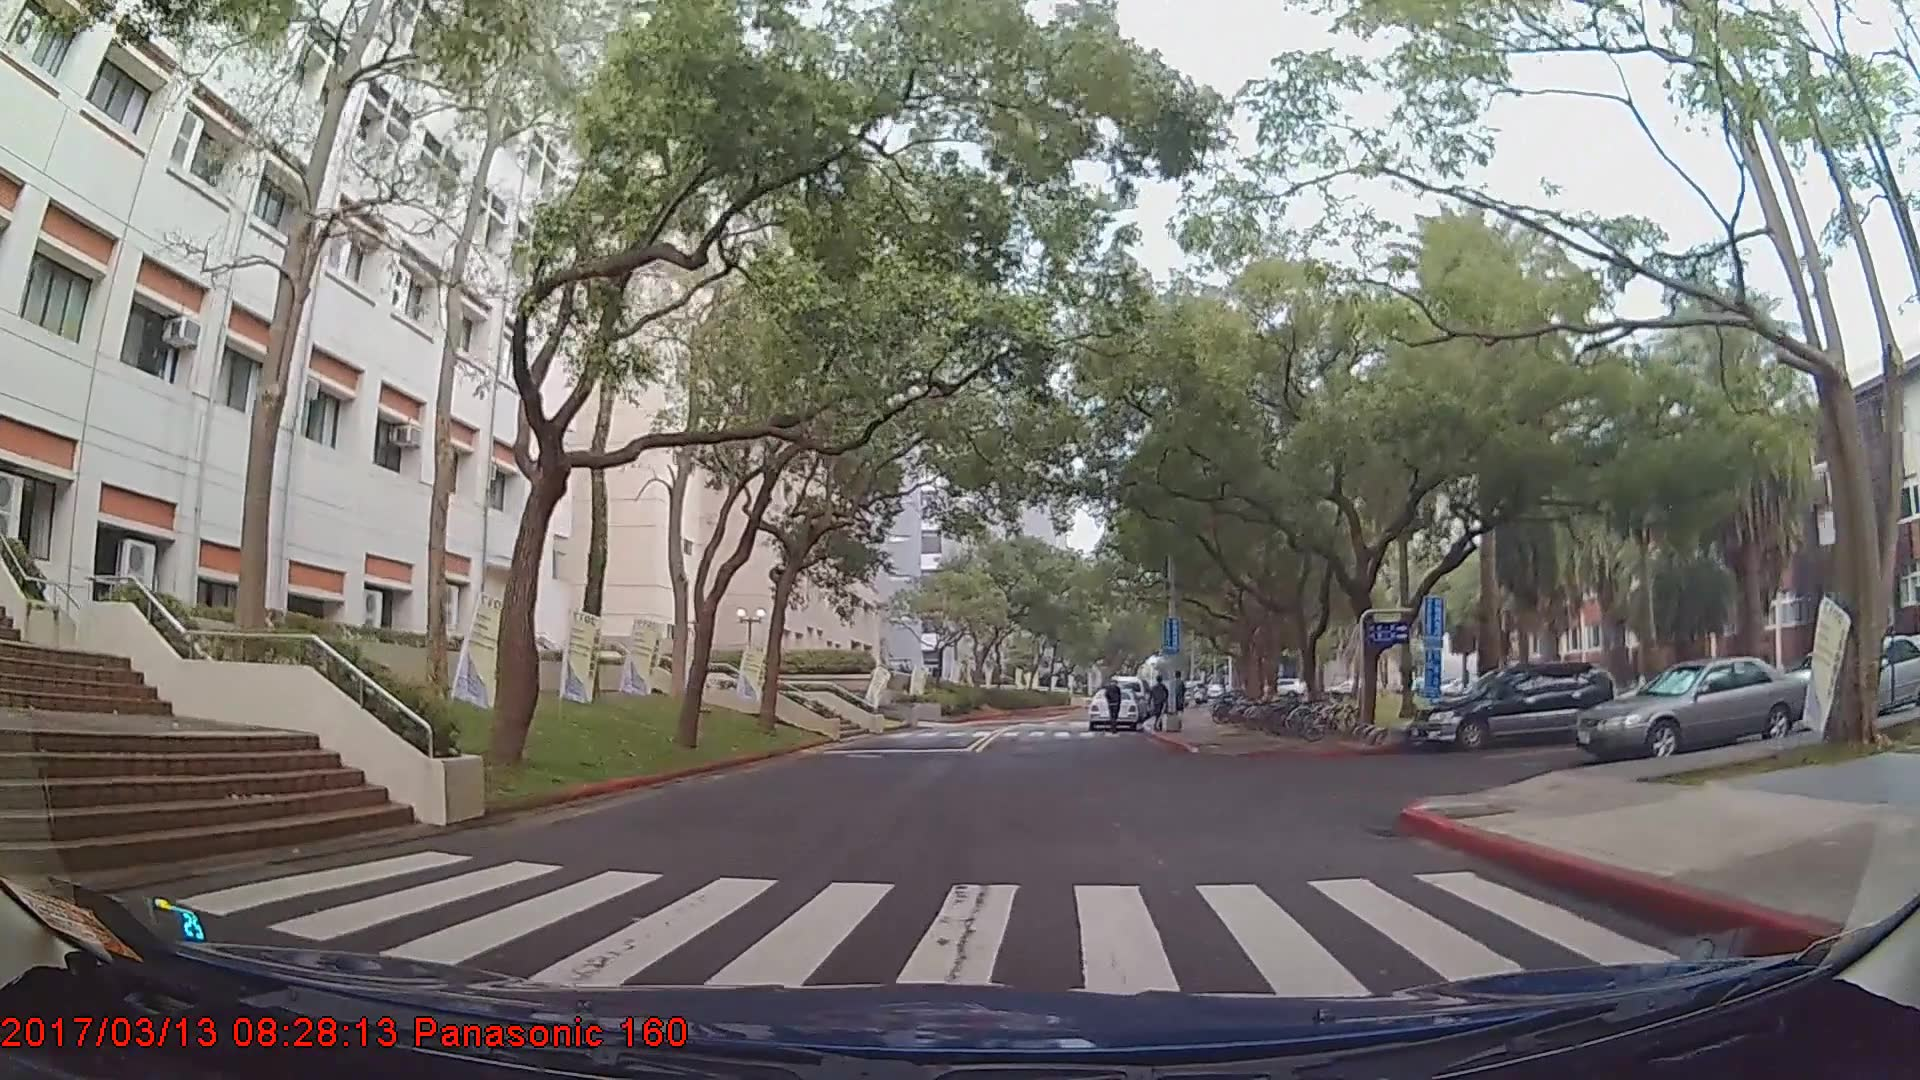pedestrian: (1150, 678, 1173, 731), (1103, 682, 1123, 738)
vehicle: (1577, 655, 1807, 766), (1414, 661, 1616, 752), (1083, 687, 1139, 731)
